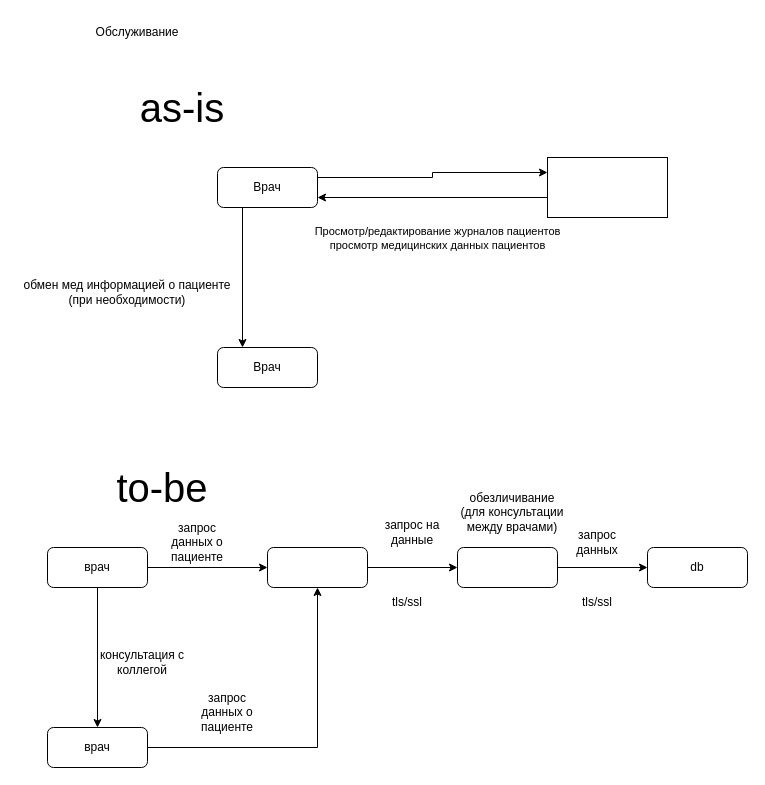
The diagram is 765 pixels wide and 785 high, and some of its shapes have lost their labels. The shapes that lost their labels are listed below. From the top down, each one's centre as x and y in pixels, then its label:
point 607,187: Exel-журналы, сканы, фотографии документов
point 317,567: Web-app
point 507,567: backend
